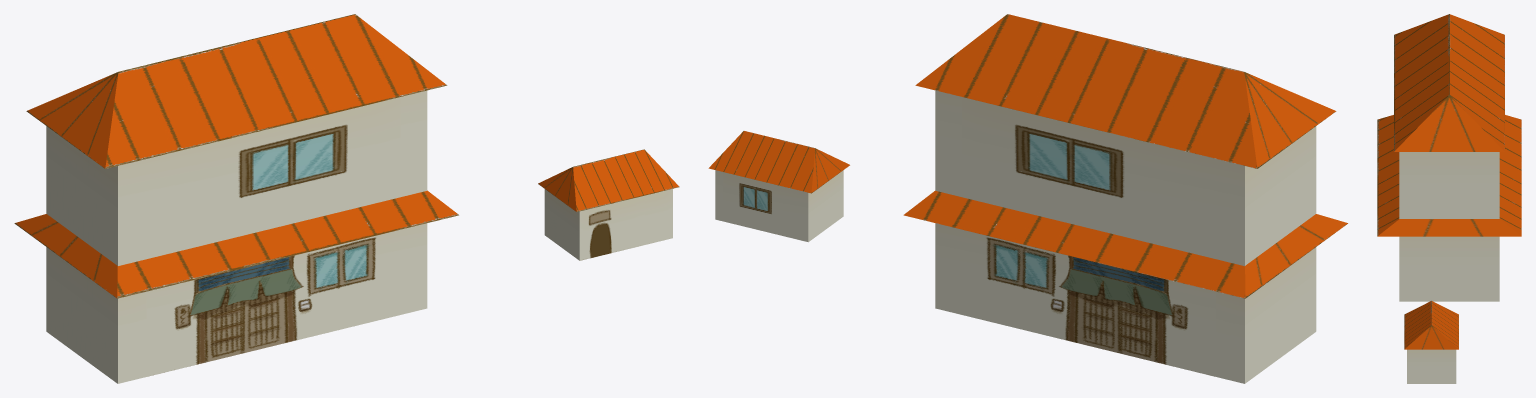
Rendered from iru_outi_3-1.fbx.
3 views of the same model, side by side, from view 1: azimuth 30°, elevation 25°; view 2: azimuth 150°, elevation 25°; view 3: azimuth 270°, elevation 25° (orthographic). The views are drawn at different scales.
Visible parts, largest first — view 1: pasted__pasted__pasted__pCube4 (×2), pasted__pasted__pCube4 (×2), pasted__pasted__pasted__pasted__pCube4, pasted__pCube4; view 2: pasted__pasted__pasted__pCube4 (×2), pasted__pasted__pCube4 (×2), pasted__pasted__pasted__pasted__pCube4, pasted__pCube4; view 3: pasted__pasted__pasted__pCube4 (×2), pasted__pasted__pCube4 (×2), pasted__pCube4, pasted__pasted__pasted__pasted__pCube4.
Boxes of the visible parts, x1=… form: pasted__pasted__pasted__pCube4 (×2): x1=26, y1=14, x2=672, y2=260; pasted__pasted__pCube4 (×2): x1=46, y1=149, x2=679, y2=383; pasted__pasted__pasted__pasted__pCube4: x1=46, y1=90, x2=427, y2=265; pasted__pCube4: x1=14, y1=190, x2=458, y2=298; pasted__pasted__pasted__pCube4 (×2): x1=715, y1=14, x2=1336, y2=242; pasted__pasted__pCube4 (×2): x1=708, y1=131, x2=1316, y2=383; pasted__pasted__pasted__pasted__pCube4: x1=935, y1=90, x2=1316, y2=266; pasted__pCube4: x1=903, y1=190, x2=1347, y2=298; pasted__pasted__pasted__pCube4 (×2): x1=1394, y1=14, x2=1504, y2=383; pasted__pasted__pCube4 (×2): x1=1399, y1=236, x2=1499, y2=349; pasted__pCube4: x1=1377, y1=115, x2=1521, y2=236; pasted__pasted__pasted__pasted__pCube4: x1=1399, y1=152, x2=1499, y2=218.
Bounding box in the file's own units: 9.36 × 4.26 × 2.88.
